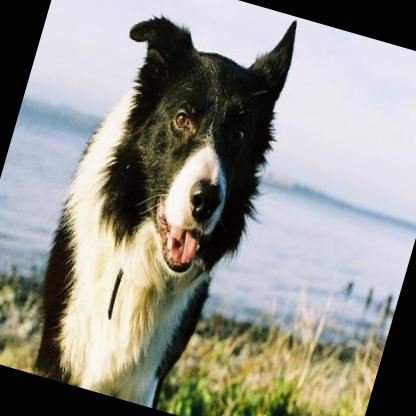collie: (12, 0, 311, 416)
